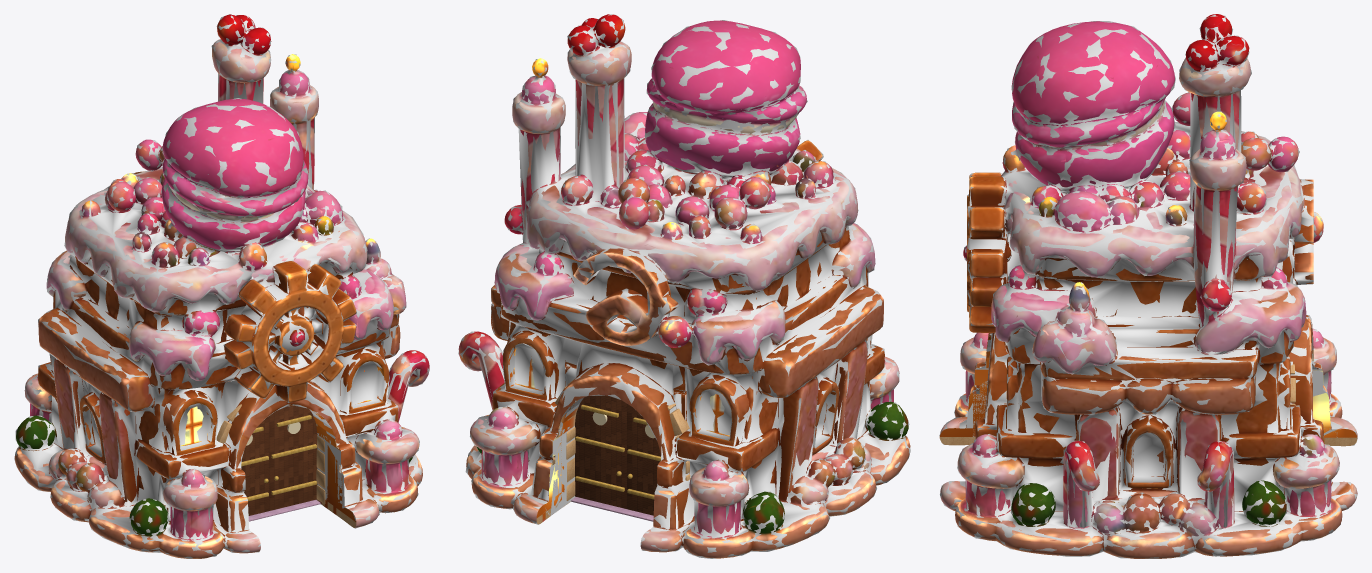
The model's file is GIN_BLD_CandyCogCottage.fbx.
3 views of the same model, side by side, from view 1: azimuth 30°, elevation 25°; view 2: azimuth 150°, elevation 25°; view 3: azimuth 270°, elevation 25° (orthographic). The views are drawn at different scales.
Parts seen in each view (by area): view 1: GIN_BLD_CandyCogCottage, COL_GIN_BLD_CandyCogCottage_Shell, GIN_BLD_CandyCogCottage_Door_FR, GIN_BLD_CandyCogCottage_Door_FL, GIN_BLD_CandyCogCottage_Frame; view 2: GIN_BLD_CandyCogCottage, COL_GIN_BLD_CandyCogCottage_Shell, GIN_BLD_CandyCogCottage_Door_BL, GIN_BLD_CandyCogCottage_Door_BR, GIN_BLD_CandyCogCottage_Frame; view 3: GIN_BLD_CandyCogCottage, COL_GIN_BLD_CandyCogCottage_Shell.
Boxes of the visible parts, x1,y1,x2,y2 form: GIN_BLD_CandyCogCottage: [14, 14, 429, 558]; COL_GIN_BLD_CandyCogCottage_Shell: [14, 14, 429, 558]; GIN_BLD_CandyCogCottage_Door_FR: [264, 406, 317, 510]; GIN_BLD_CandyCogCottage_Door_FL: [241, 416, 278, 515]; GIN_BLD_CandyCogCottage_Frame: [216, 404, 340, 521]; GIN_BLD_CandyCogCottage: [458, 14, 910, 558]; COL_GIN_BLD_CandyCogCottage_Shell: [458, 14, 910, 558]; GIN_BLD_CandyCogCottage_Door_BL: [575, 395, 632, 508]; GIN_BLD_CandyCogCottage_Door_BR: [616, 404, 660, 515]; GIN_BLD_CandyCogCottage_Frame: [552, 379, 690, 521]; GIN_BLD_CandyCogCottage: [939, 14, 1357, 558]; COL_GIN_BLD_CandyCogCottage_Shell: [939, 15, 1357, 558].
Bounding box in the file's own units: 23.56 × 28.03 × 22.08.
